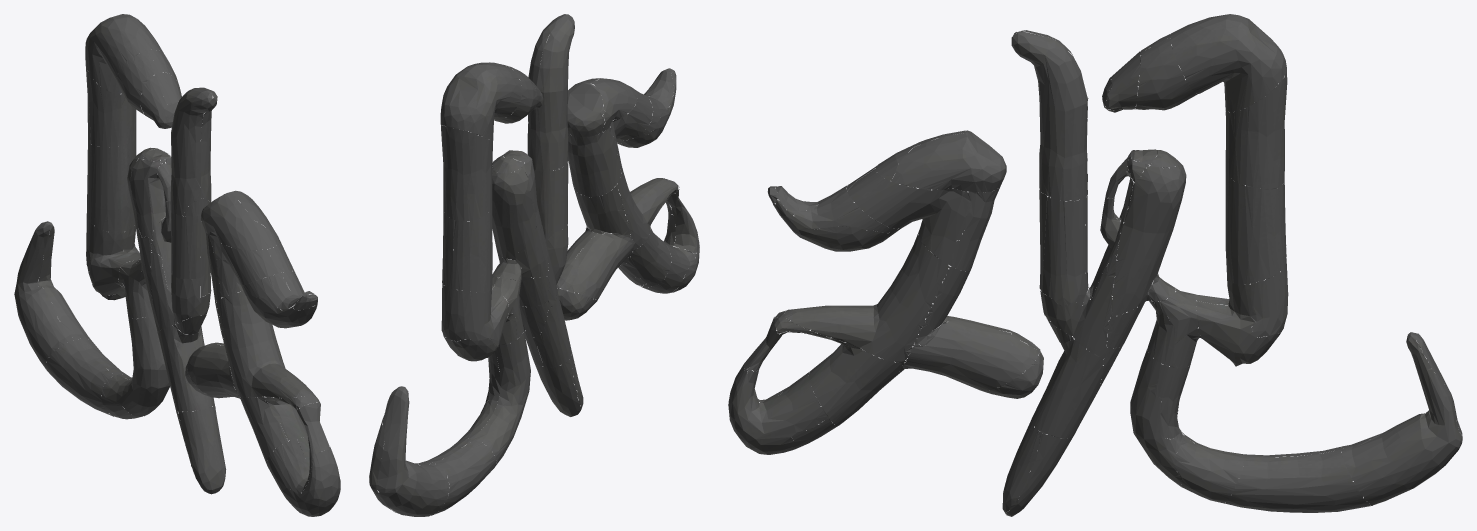
3 renders of one model, left to right at view 1: azimuth 30°, elevation 25°; view 2: azimuth 150°, elevation 25°; view 3: azimuth 270°, elevation 25°, orthographic. The views are drawn at different scales.
Visible parts, largest first — view 1: tripo_node_f8659e40-b410-49c4-ac8a-6c910ecab69a; view 2: tripo_node_f8659e40-b410-49c4-ac8a-6c910ecab69a; view 3: tripo_node_f8659e40-b410-49c4-ac8a-6c910ecab69a.
Boxes of the visible parts, x1,y1,x2,y2 form: tripo_node_f8659e40-b410-49c4-ac8a-6c910ecab69a: [14, 14, 340, 516]; tripo_node_f8659e40-b410-49c4-ac8a-6c910ecab69a: [369, 14, 699, 516]; tripo_node_f8659e40-b410-49c4-ac8a-6c910ecab69a: [728, 14, 1462, 516].
Size of the model in its own units: 0.0938 by 0.7475 by 1.
Materials: 1 (1 with a texture image).
